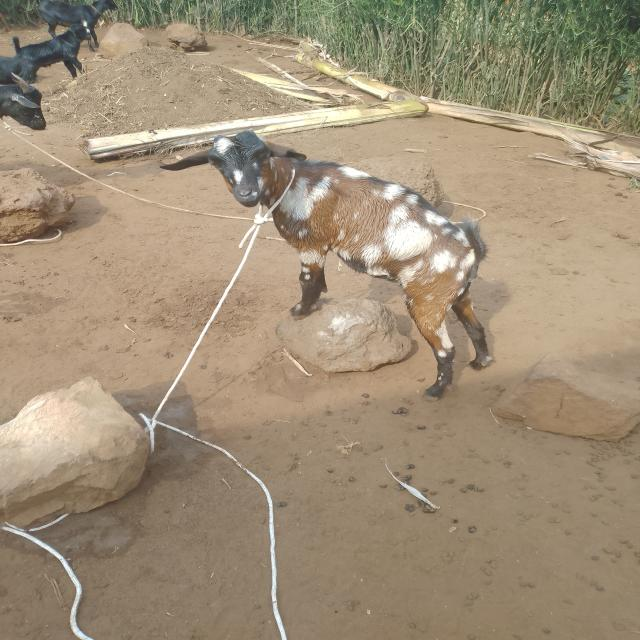goat: (130, 100, 562, 416)
